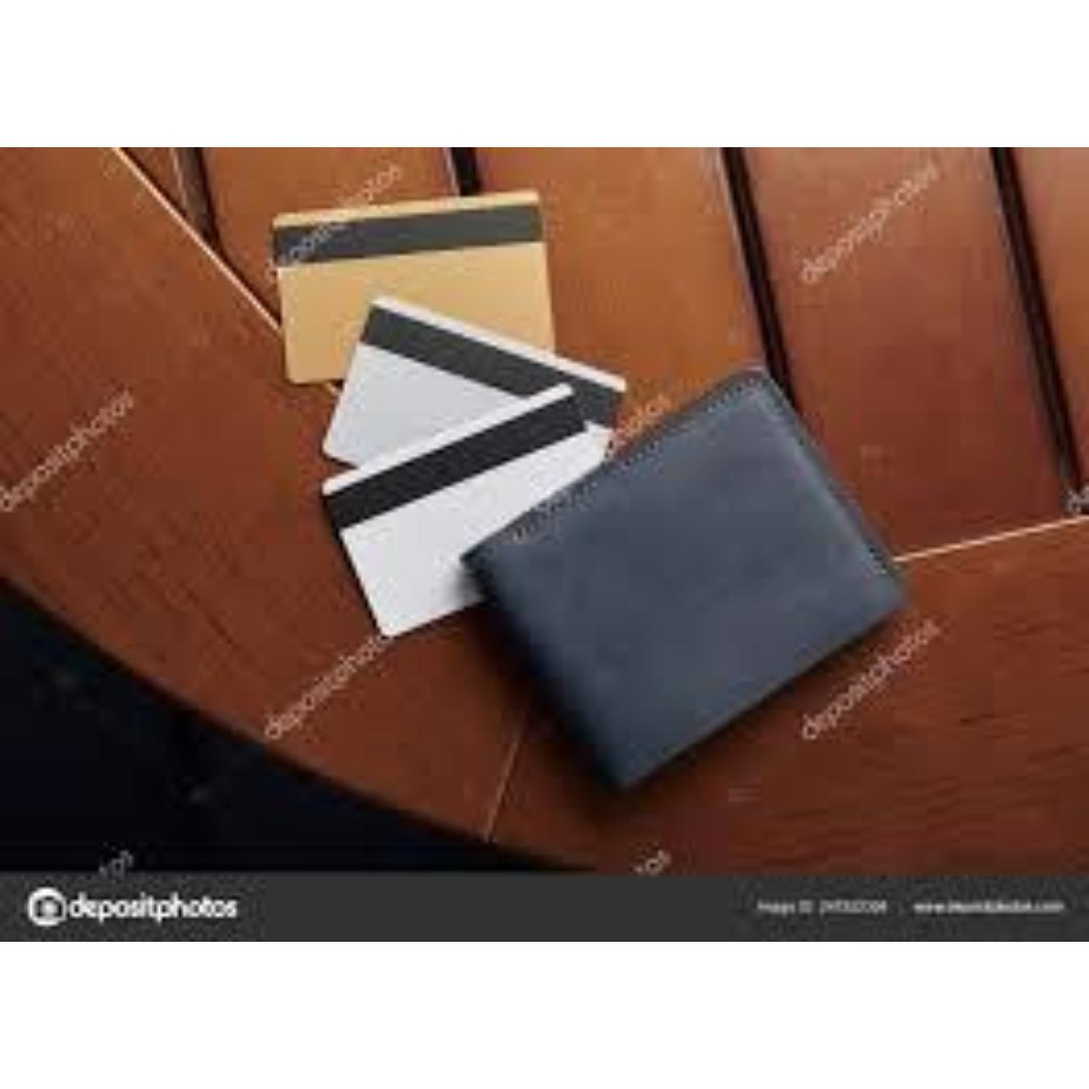wallet: (448, 367, 965, 809)
